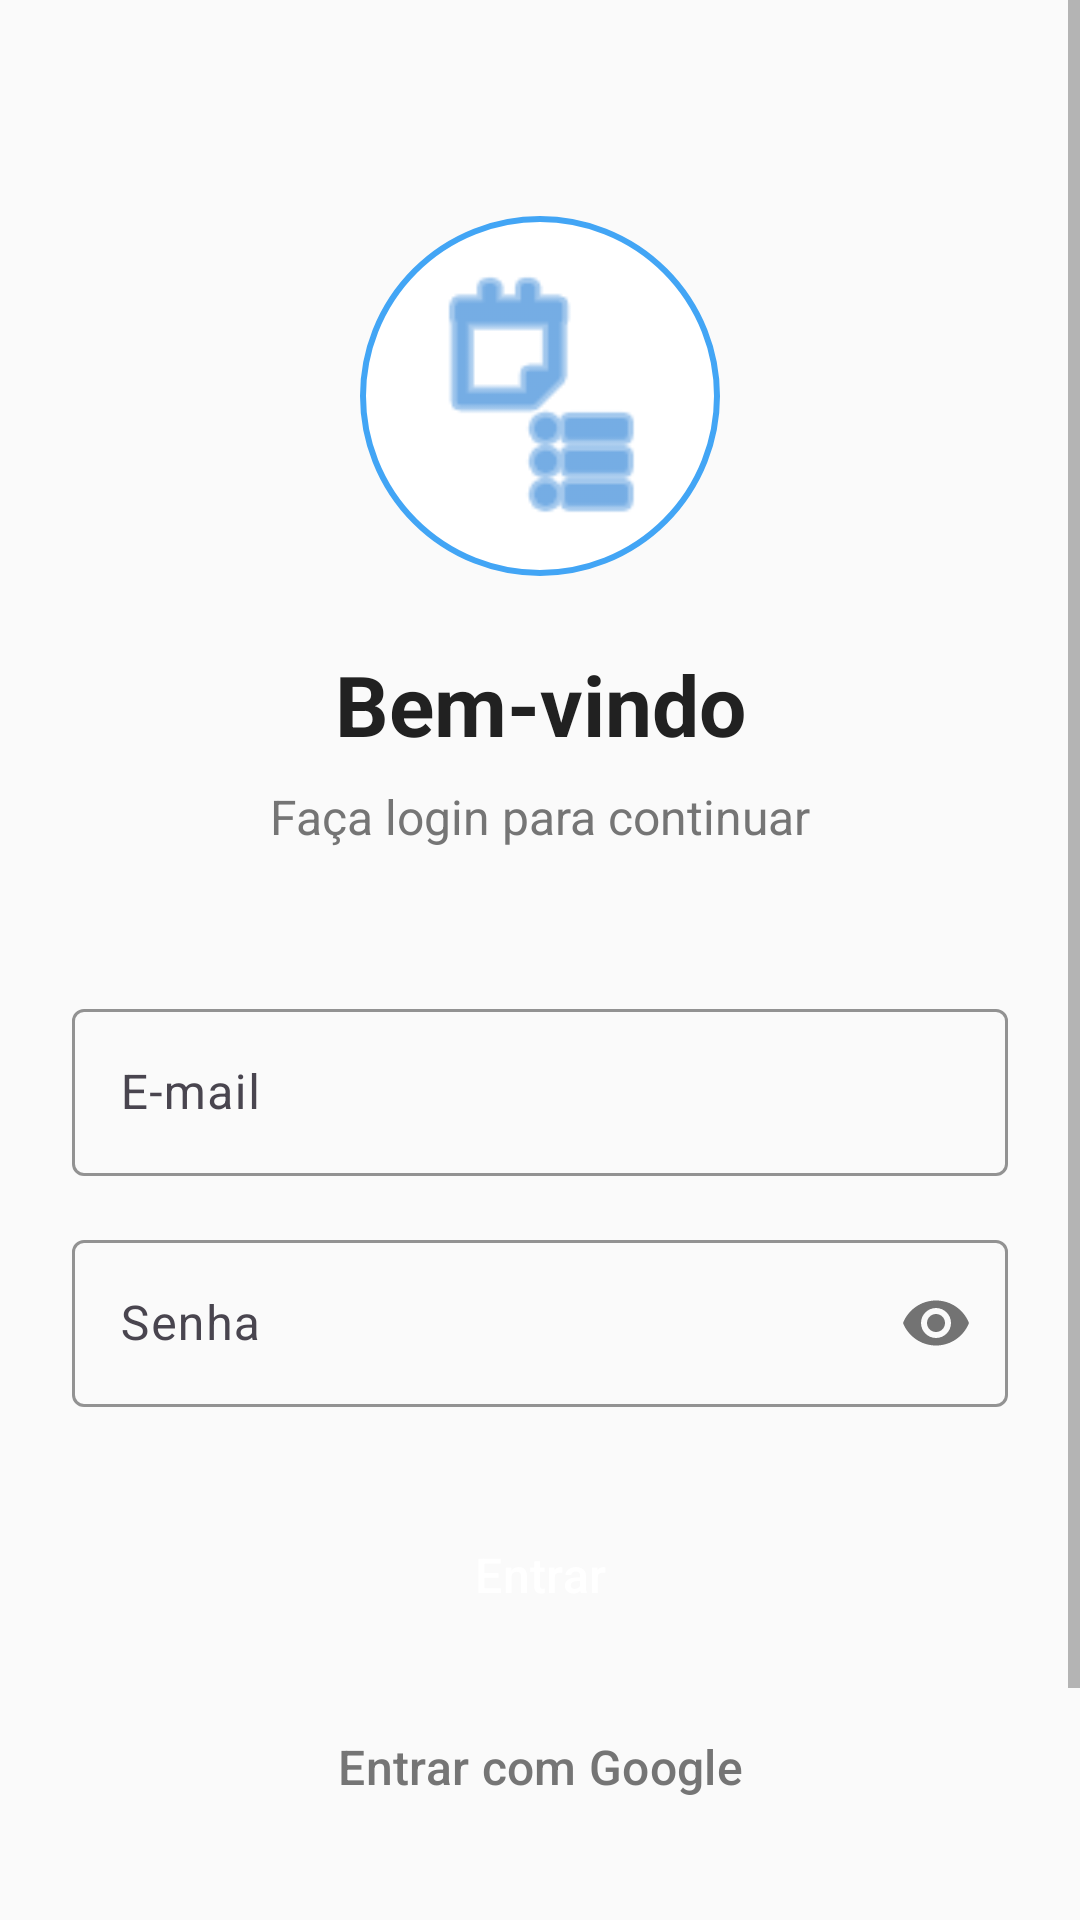

Icons on this 1080 × 1920 Android screen, each with the point to tap as (x,y):
agenda: (540,396)
